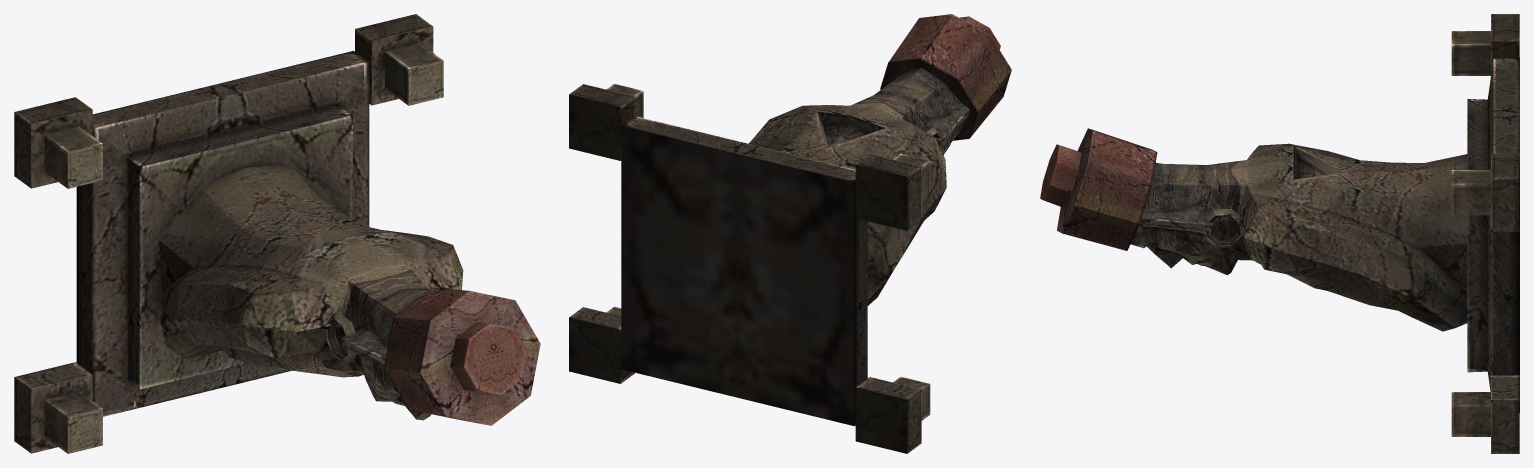
File: fuhuodao_moai_1.obj
The picture shows the model from 3 angles, left to right: view 1: azimuth 30°, elevation 25°; view 2: azimuth 150°, elevation 25°; view 3: azimuth 270°, elevation 25°; orthographic projection. The views are drawn at different scales.
Parts seen in each view (by area): view 1: Fuhuodao_moai_01; view 2: Fuhuodao_moai_01; view 3: Fuhuodao_moai_01.
Boxes of the visible parts, <box> form: Fuhuodao_moai_01: <box>14,14,540,453</box>; Fuhuodao_moai_01: <box>569,14,1011,453</box>; Fuhuodao_moai_01: <box>1040,14,1519,453</box>.
Bounding box in the file's own units: 189 × 148 × 234.
1 material, 1 textured.
